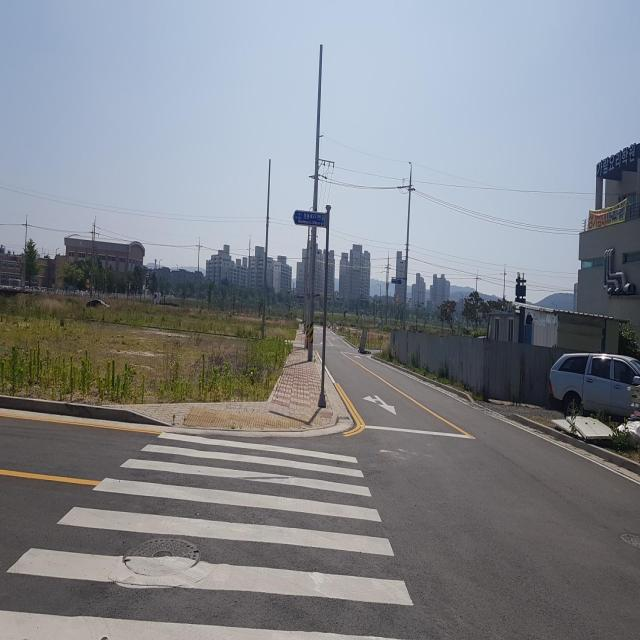횡단보도: (0, 432, 414, 639)
